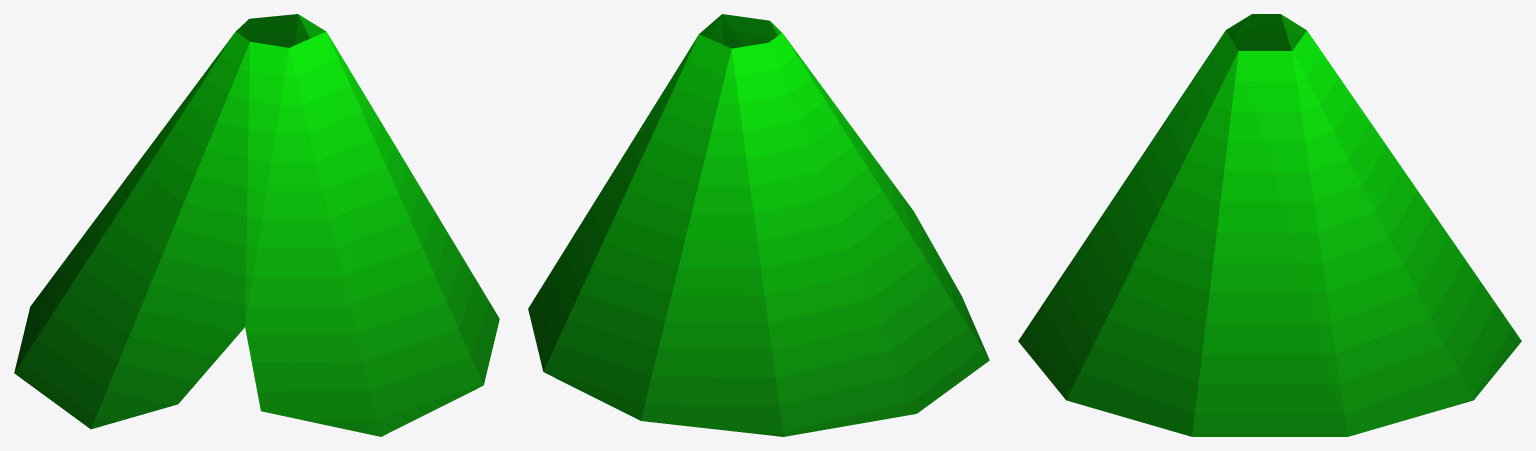
File: Prefab_Foliage_Tree_Pine_Leaves_F.glb
3 renders of one model, left to right at view 1: azimuth 30°, elevation 25°; view 2: azimuth 150°, elevation 25°; view 3: azimuth 270°, elevation 25°, orthographic. The views are drawn at different scales.
Parts seen in each view (by area): view 1: PineTree_B_Trunk.006; view 2: PineTree_B_Trunk.006; view 3: PineTree_B_Trunk.006.
Boxes of the visible parts, x1,y1,x2,y2 form: PineTree_B_Trunk.006: (14,14,499,436); PineTree_B_Trunk.006: (528,14,989,436); PineTree_B_Trunk.006: (1018,14,1521,436).
Size of the model in its own units: 5.7 by 4.27 by 6.
1 material, 1 textured.
